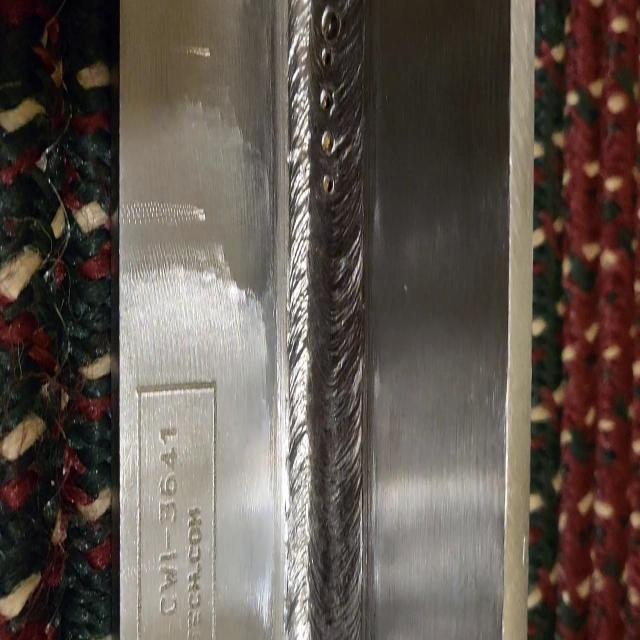Welding Line: (292, 1, 368, 640)
Workpiece: (120, 8, 526, 640)
porosity: (320, 3, 338, 192)
